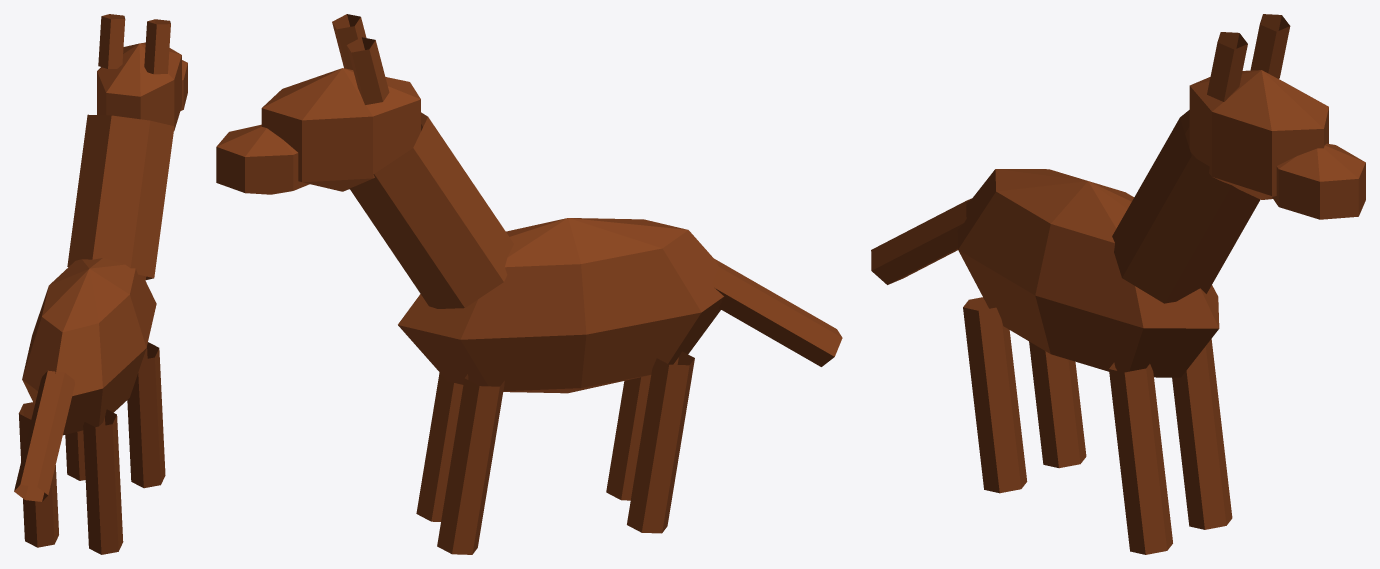
The model's file is Horse_08.obj.
The picture shows the model from 3 angles, left to right: view 1: azimuth 30°, elevation 25°; view 2: azimuth 150°, elevation 25°; view 3: azimuth 270°, elevation 25°; orthographic projection. The views are drawn at different scales.
Parts seen in each view (by area): view 1: Horse_08; view 2: Horse_08; view 3: Horse_08.
Part boxes in pixels (x1,y1,x2,y2): Horse_08: [14, 14, 187, 554]; Horse_08: [216, 14, 842, 554]; Horse_08: [871, 14, 1365, 554].
Bounding box in the file's own units: 1.65 × 1.99 × 1.65.
